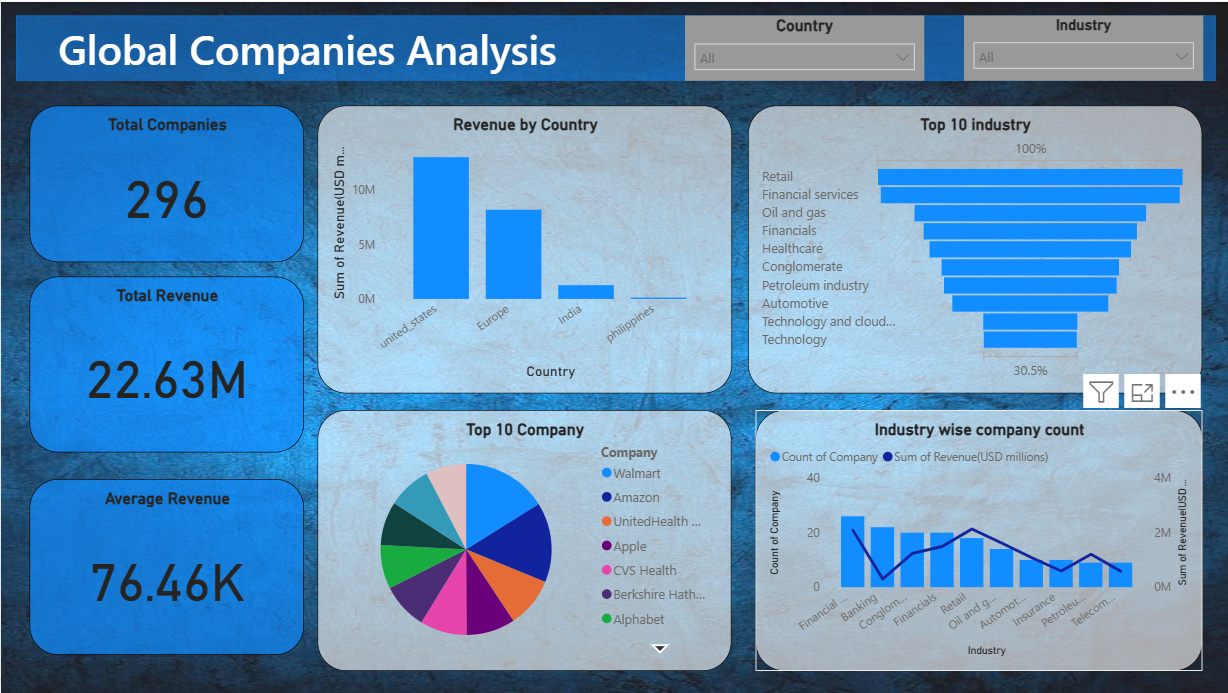

The page's visual inventory and layout, read from the dashboard file:
{"tool":"powerbi","page":{"name":"Page 2","canvas":[1280,720],"ordinal":0},"visuals":[{"type":"shape","box":[15.6,13.6,1250.1,68.2],"z":0},{"type":"textbox","box":[54.5,13.6,549.1,68.2],"z":1},{"type":"slicer","title":"Country","fields":{"Values":["global analysis.Country"]},"box":[712.7,13.6,249.2,68.2],"z":2},{"type":"slicer","title":"Industry","fields":{"Values":["global analysis.Industry"]},"box":[1002.8,13.6,249.2,68.2],"z":3},{"type":"card","title":"Total Companies","fields":{"Values":["CountNonNull(global analysis.Company)"]},"box":[29.2,107.1,286.2,163.6],"z":5},{"type":"card","title":"Total Revenue","fields":{"Values":["Sum(global analysis.Revenue(USD millions))"]},"box":[29.2,286.2,286.2,183],"z":6},{"type":"card","title":"Average Revenue","fields":{"Values":["global analysis.average revenue"]},"box":[29.2,496.6,286.2,183],"z":7},{"type":"clusteredColumnChart","title":"Revenue by Country","fields":{"Category":["global analysis.Country"],"Y":["Sum(global analysis.Revenue(USD millions))"]},"box":[329.1,107.1,432.3,299.9],"z":8},{"type":"funnel","title":"Top 10 industry","fields":{"Category":["global analysis.Industry"],"Y":["Sum(global analysis.Revenue(USD millions))"]},"box":[778.9,107.1,473.2,299.9],"z":9},{"type":"pieChart","title":"Top 10 Company","fields":{"Category":["global analysis.Company"],"Y":["Sum(global analysis.Revenue(USD millions))"],"Series":["global analysis.Country"]},"box":[329.8,425.1,431.4,272],"z":10},{"type":"lineStackedColumnComboChart","title":"Industry wise company count ","fields":{"Category":["global analysis.Industry"],"Y":["CountNonNull(global analysis.Company)"],"Y2":["Sum(global analysis.Revenue(USD millions))"]},"box":[786.2,425.1,465.8,272],"z":11}]}

Visuals, with their boxes in screenshot pixels (x1, y1, x2, y2), scaled from the page's 1280x720 canvas onto the 1228x693 screenshot:
shape: select_region(15, 13, 1214, 79)
textbox: select_region(52, 13, 579, 79)
"Country" slicer: select_region(684, 13, 923, 79)
"Industry" slicer: select_region(962, 13, 1201, 79)
"Total Companies" card: select_region(28, 103, 303, 261)
"Total Revenue" card: select_region(28, 275, 303, 452)
"Average Revenue" card: select_region(28, 478, 303, 654)
"Revenue by Country" clusteredColumnChart: select_region(316, 103, 730, 392)
"Top 10 industry" funnel: select_region(747, 103, 1201, 392)
"Top 10 Company" pieChart: select_region(316, 409, 730, 671)
"Industry wise company count " lineStackedColumnComboChart: select_region(754, 409, 1201, 671)
